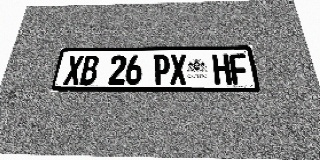2: (108, 55, 127, 85)
6: (125, 55, 143, 85)
B: (79, 55, 99, 85)
F: (229, 54, 250, 84)
H: (212, 54, 232, 84)
P: (153, 55, 170, 85)
X: (63, 55, 84, 85), (170, 54, 187, 84)
